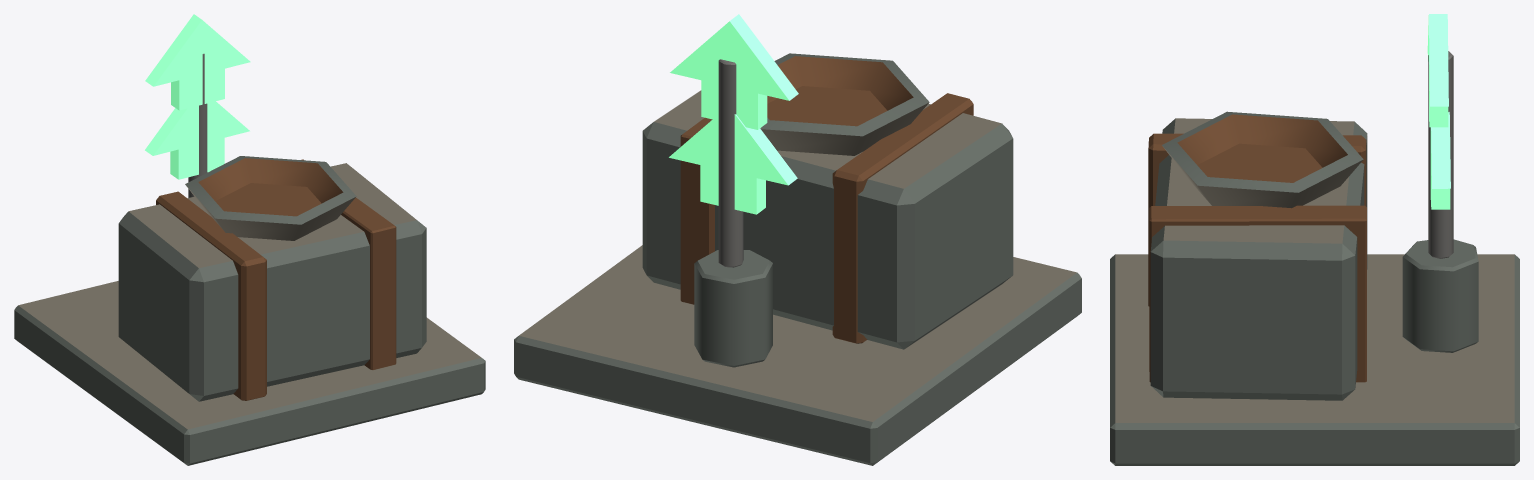
File: R4X_CargoUplink_LOD1.fbx
The picture shows the model from 3 angles, left to right: view 1: azimuth 30°, elevation 25°; view 2: azimuth 150°, elevation 25°; view 3: azimuth 270°, elevation 25°; orthographic projection. The views are drawn at different scales.
Visible parts, largest first — view 1: R4X_CargoUplink_LOD1; view 2: R4X_CargoUplink_LOD1; view 3: R4X_CargoUplink_LOD1.
Part boxes in pixels (box(x1,y1,x2,y2)): R4X_CargoUplink_LOD1: box(14, 14, 485, 465); R4X_CargoUplink_LOD1: box(514, 14, 1081, 465); R4X_CargoUplink_LOD1: box(1110, 14, 1519, 465).
Bounding box in the file's own units: 0.52 × 0.515 × 0.52.
